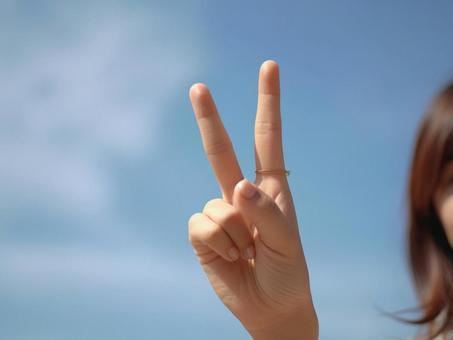peace_sign: (182, 54, 321, 340)
